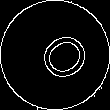O_SW: (22, 23, 88, 87)
